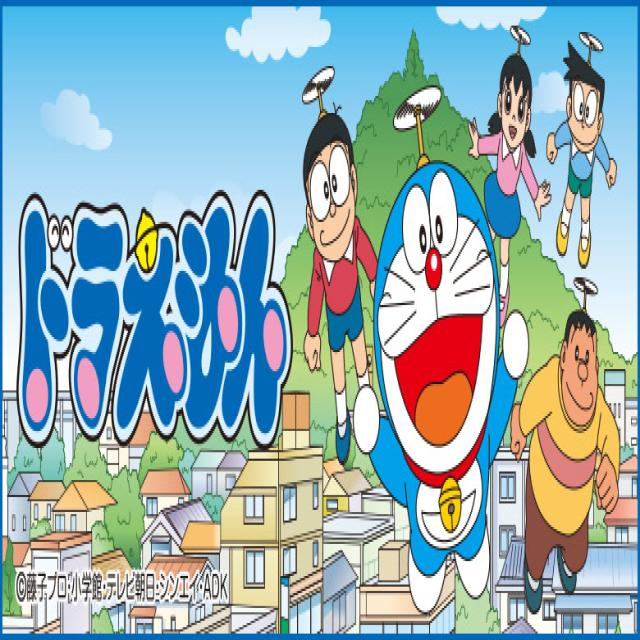doraemon: (365, 149, 519, 561)
jaian: (548, 294, 606, 461)
nobita: (289, 111, 381, 316)
shizuka: (483, 41, 545, 186)
suneo: (558, 38, 612, 185)
